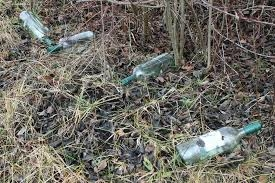glass: (171, 116, 263, 170), (111, 48, 186, 92), (14, 6, 58, 49), (46, 27, 102, 60)
